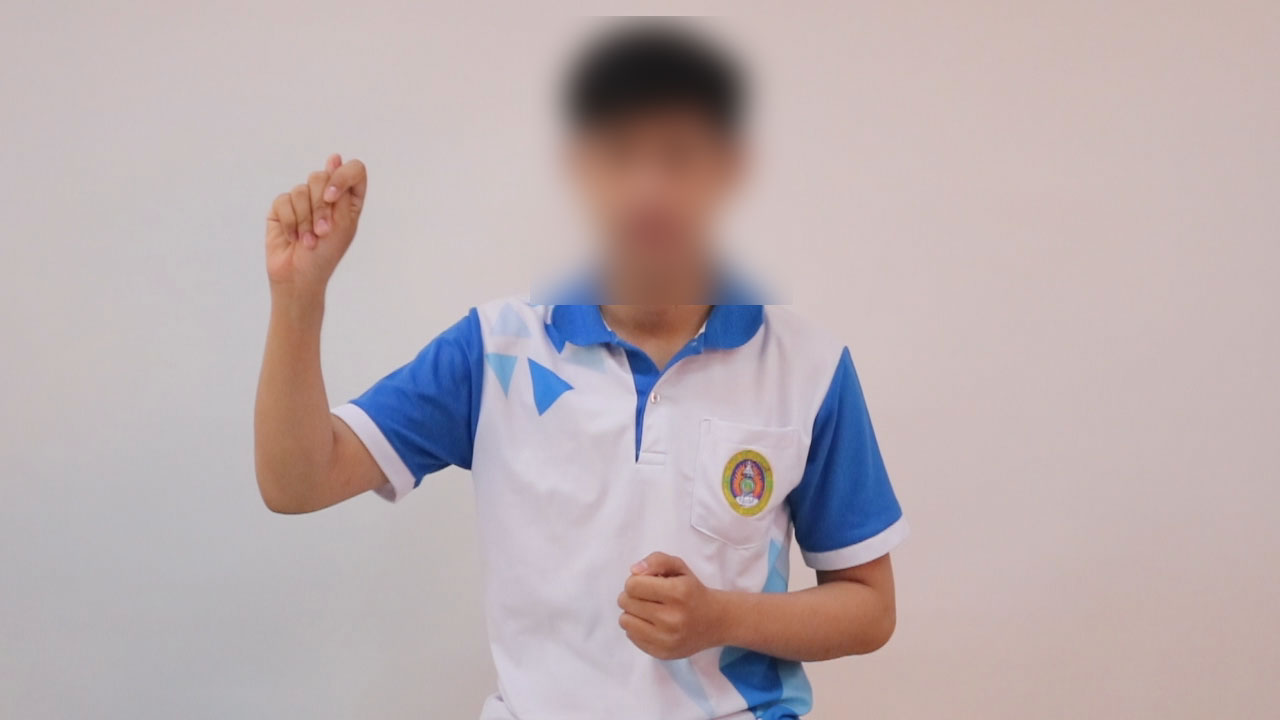tor: (242, 132, 389, 309)
